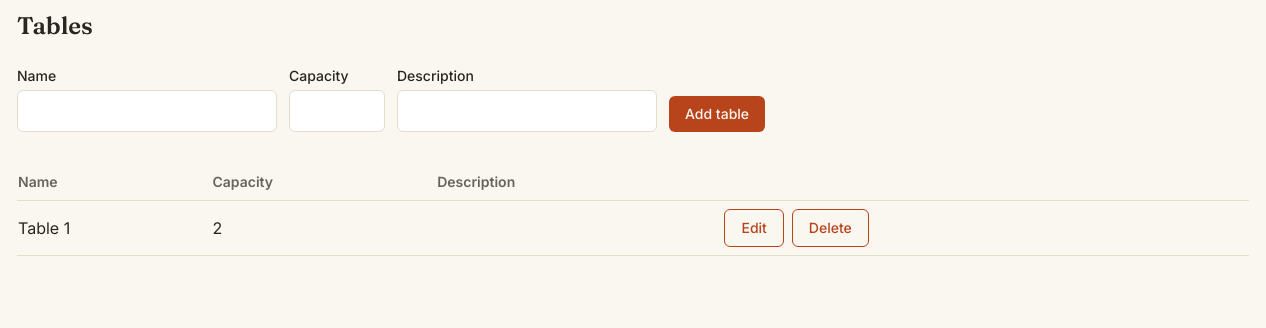
Test case: AdminTables › lists tables and creates a new one
Expected: the text "Table 1" is shown, [17,200,212,256]
Type "Table 2" into the field labelled "Name" at (147, 111), box [17,90,277,132]
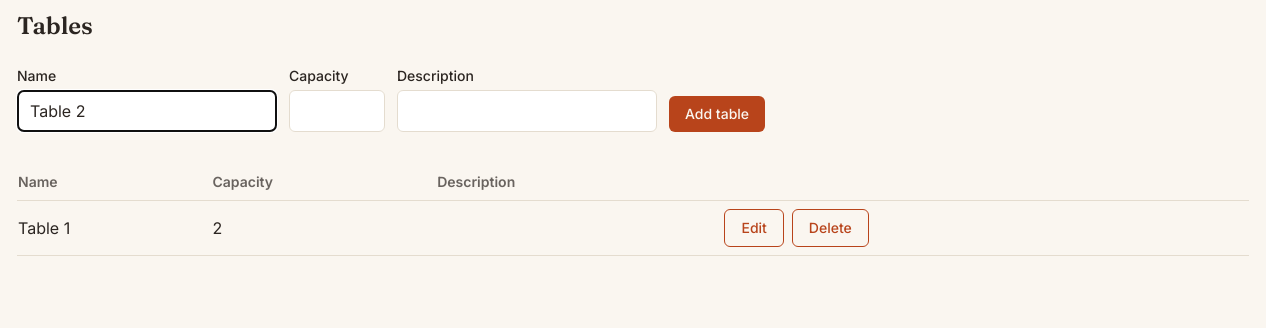
Type "4" into the number field labelled "Capacity" at (337, 111), box [289,90,385,132]
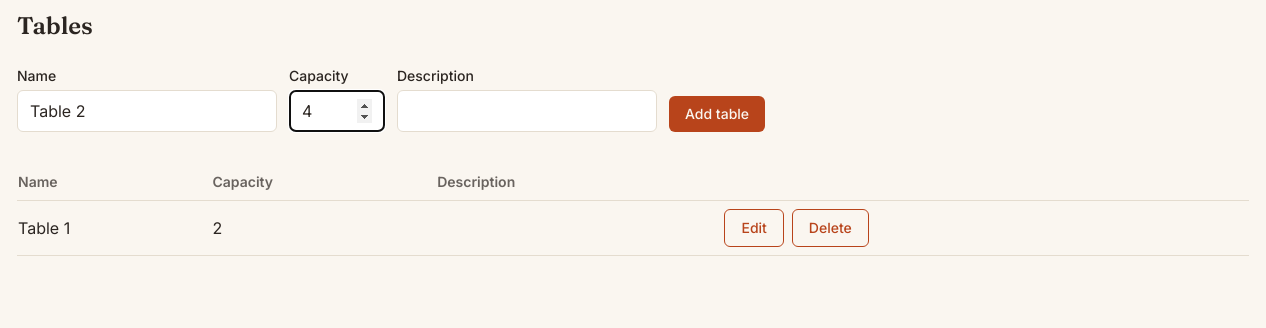
Click the button "Add table" at (717, 114), box [669,96,765,132]
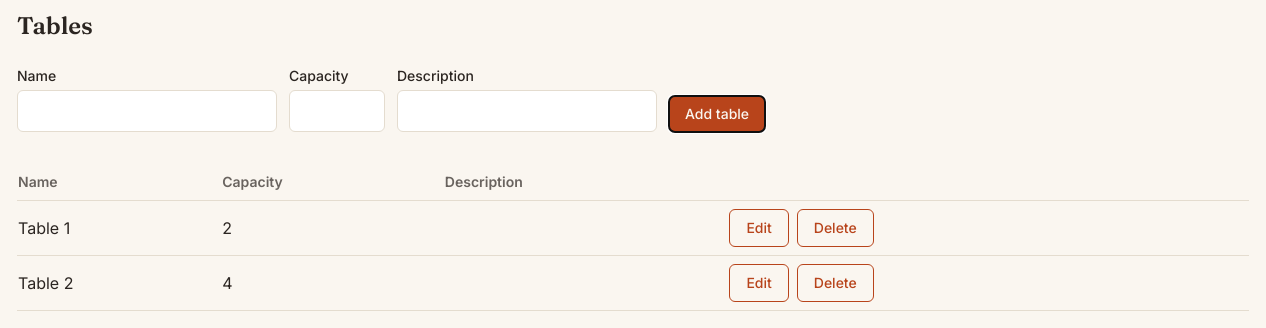
Expected: the text "Table 2" is shown, [17,256,221,310]
